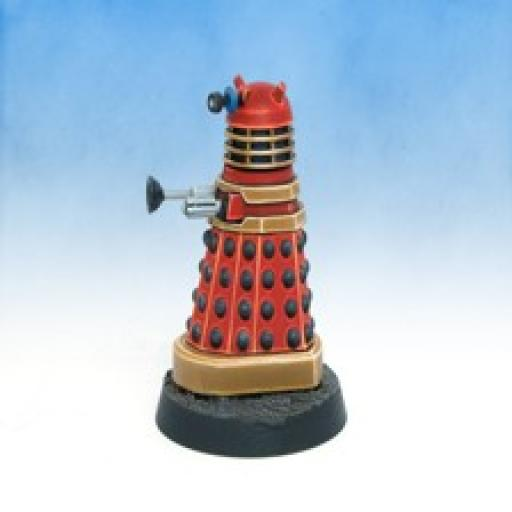dalek: (132, 76, 338, 398)
